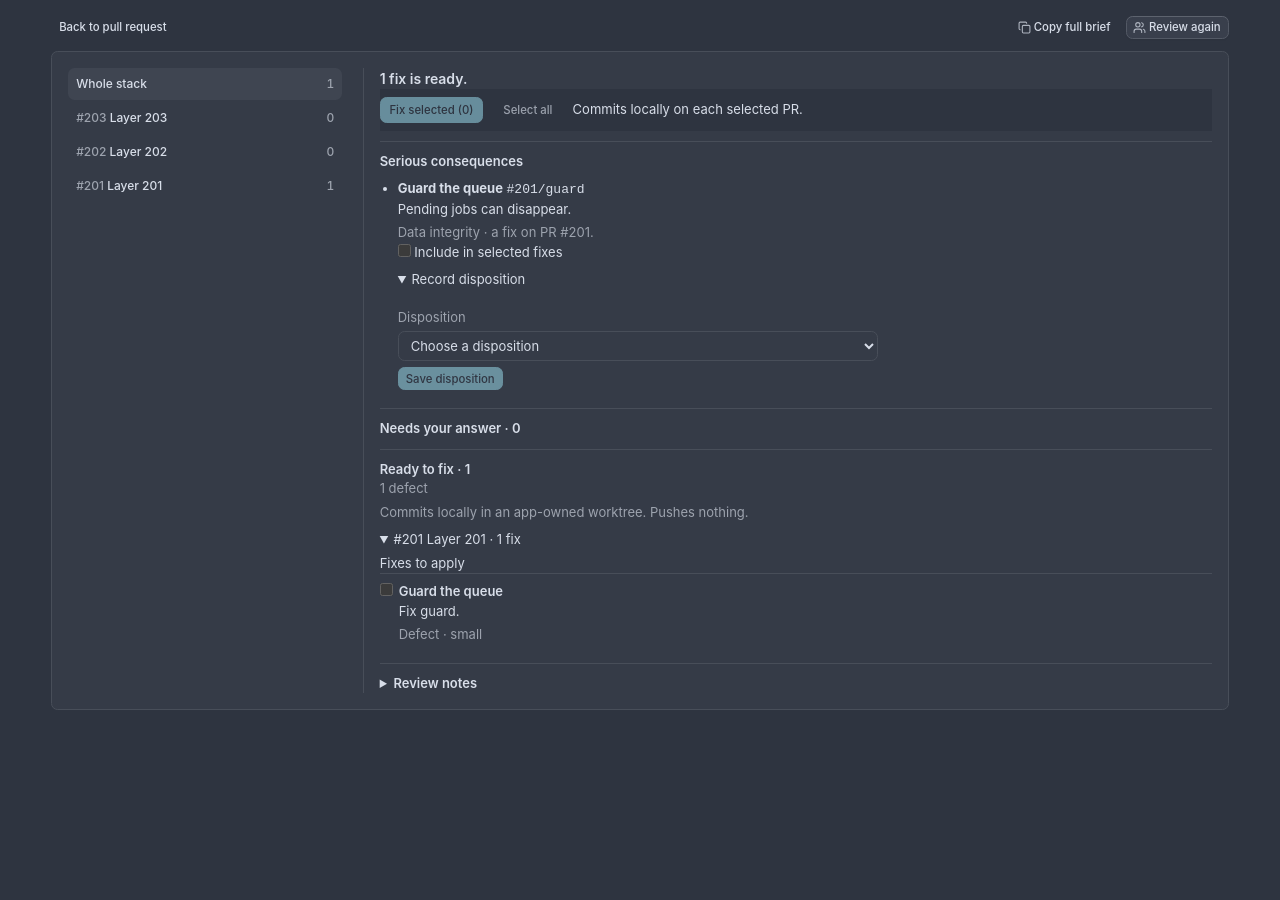
Test: saves and clears a serious consequence on the page
This screenshot has width=1280, height=900.
Select "Accepted as a risk" in the dropdown labelled "Disposition": (638, 346) x1=398 y1=331 x2=878 y2=361
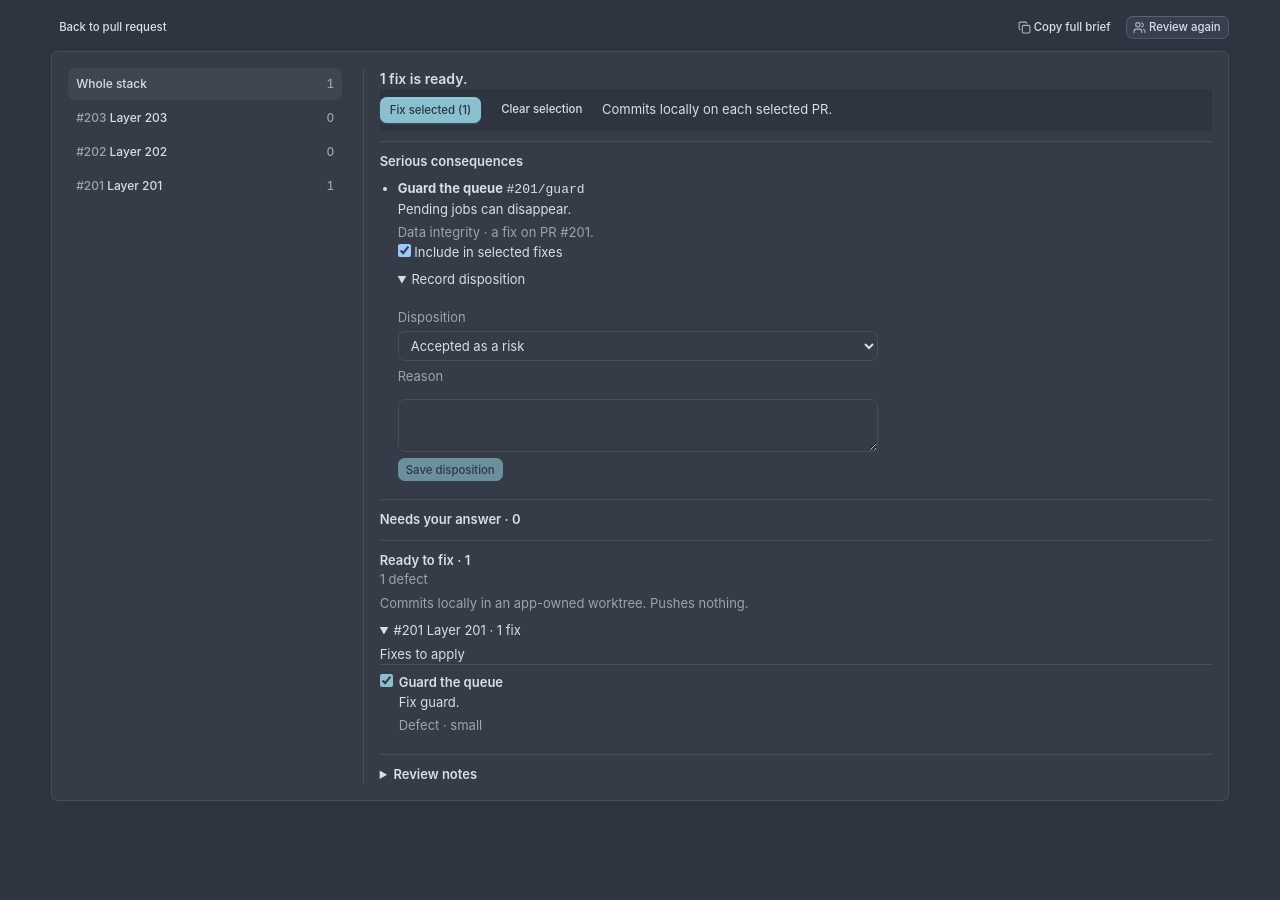
In the text box labelled "Reason": (638, 426) x1=398 y1=399 x2=878 y2=452, type "The queue can be replayed."
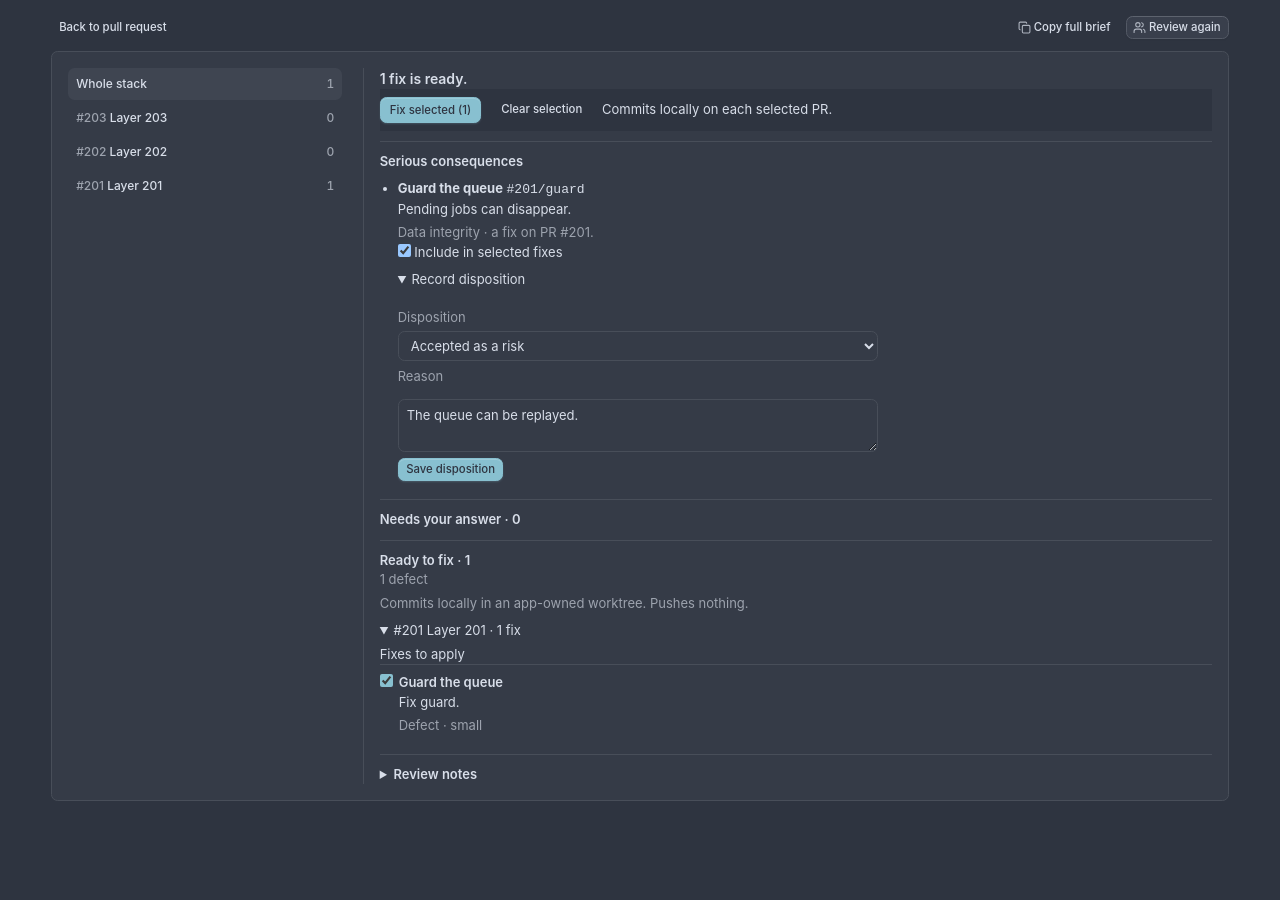
Result: the button "Save disposition" is enabled
Click the button "Save disposition": click(450, 470) x1=398 y1=458 x2=503 y2=481
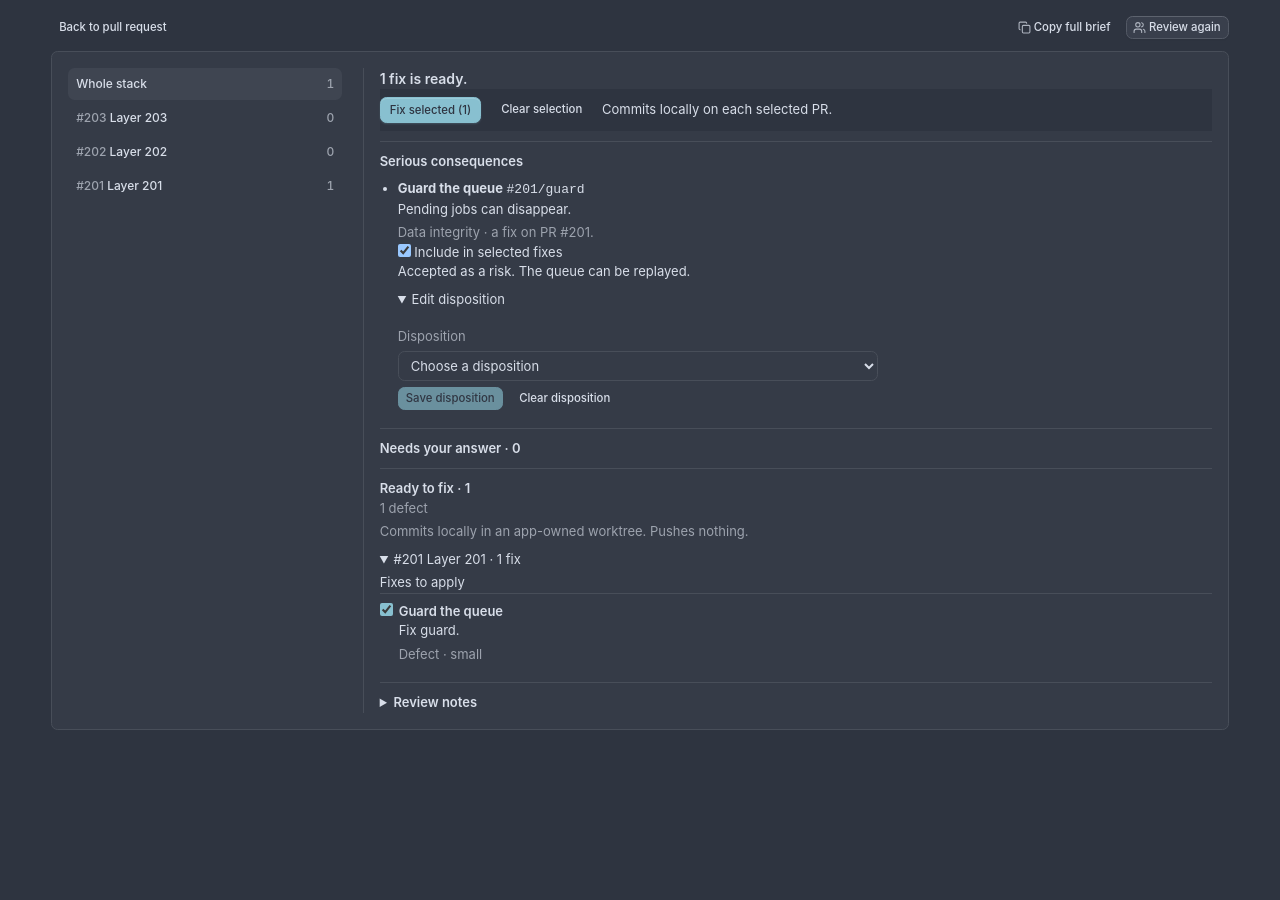
Result: the text "Accepted as a risk. The queue can be replayed." is shown at x1=398 y1=263 x2=690 y2=279
Result: the button "Clear disposition" is enabled
Click the button "Clear disposition": click(564, 398) x1=511 y1=387 x2=618 y2=410
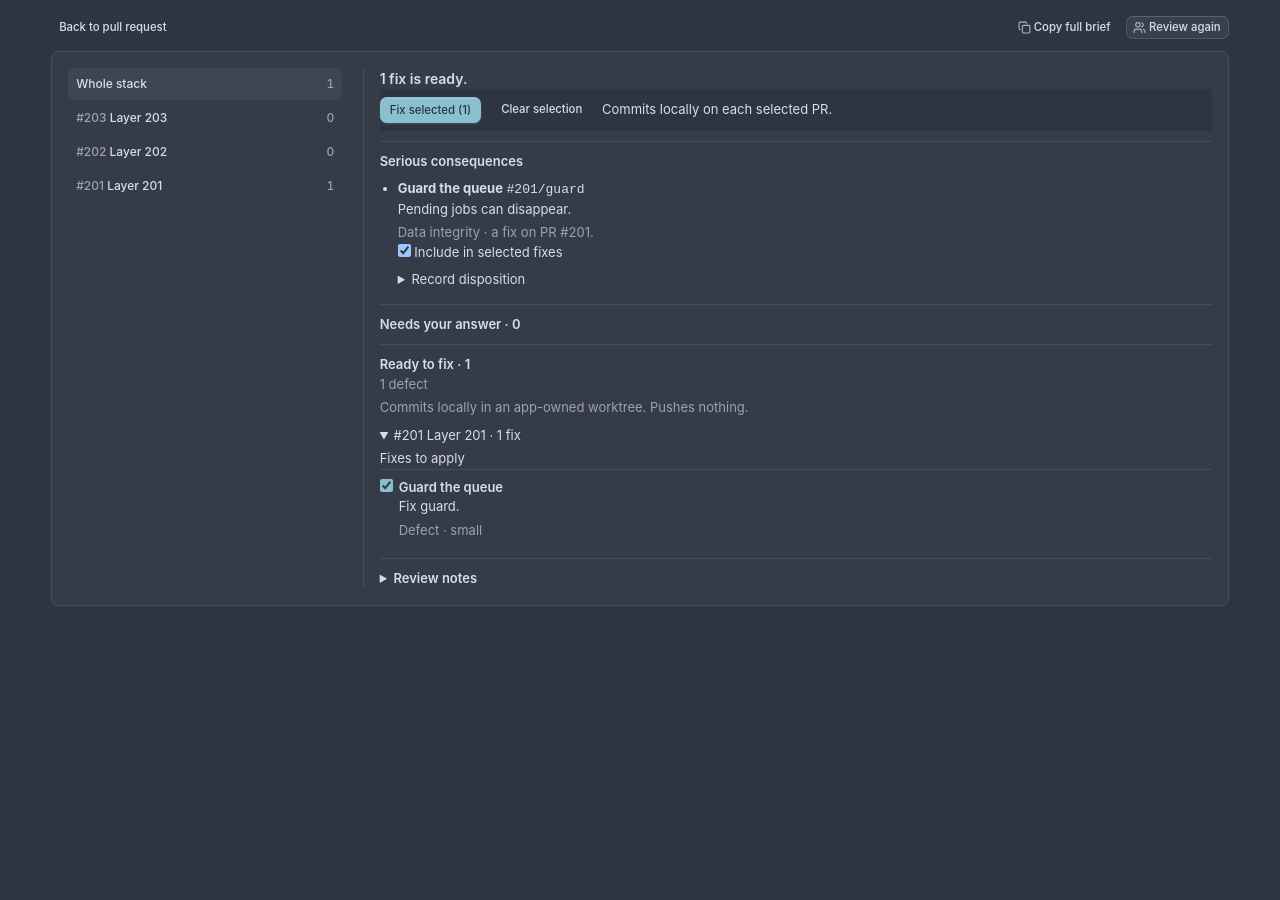
Result: the heading "Record disposition" is shown at x1=411 y1=271 x2=525 y2=287
Result: the text "Accepted as a risk. The queue can be replayed." is gone
